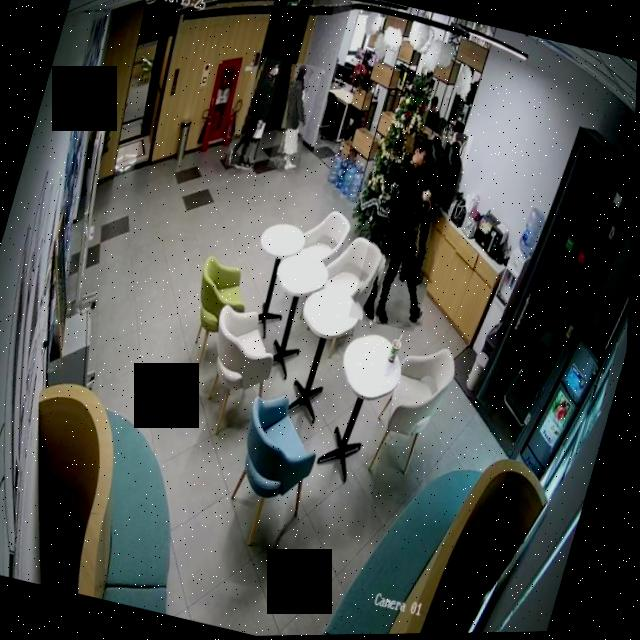person: (350, 128, 469, 334), (399, 129, 475, 285), (225, 55, 284, 172), (268, 62, 324, 174)
